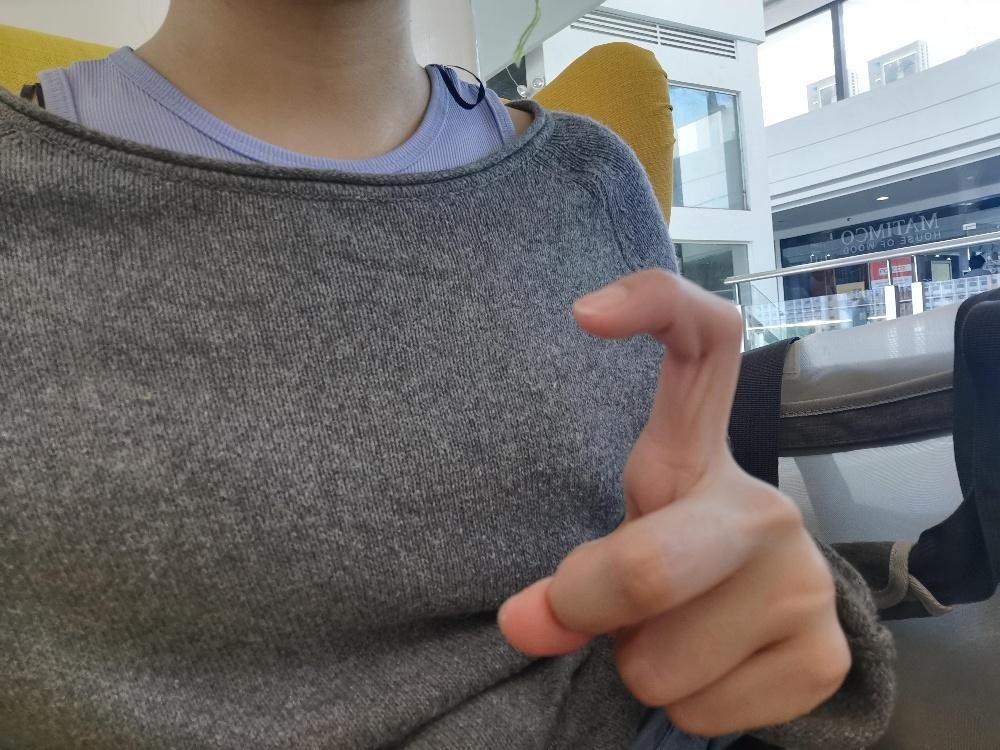x: (493, 264, 853, 740)
